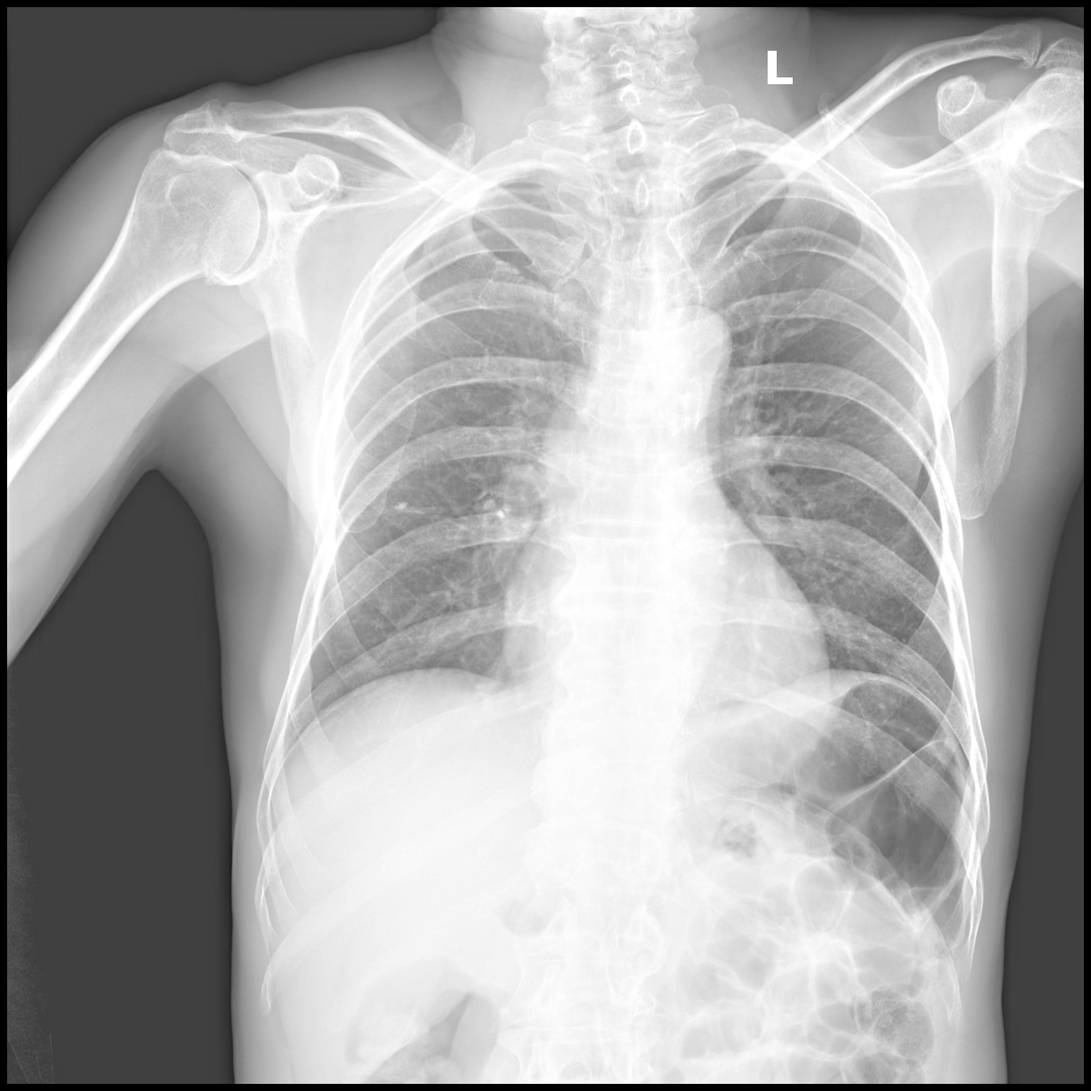Aortic enlargement: (538, 301, 734, 512)
Pulmonary fibrosis: (387, 493, 468, 533)
